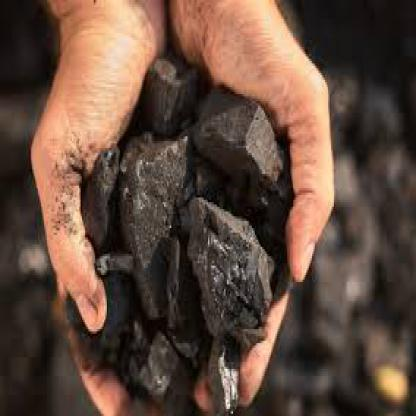Sedimentary_coal: (186, 181, 272, 343), (119, 127, 189, 265), (191, 92, 284, 188), (126, 322, 186, 395)
